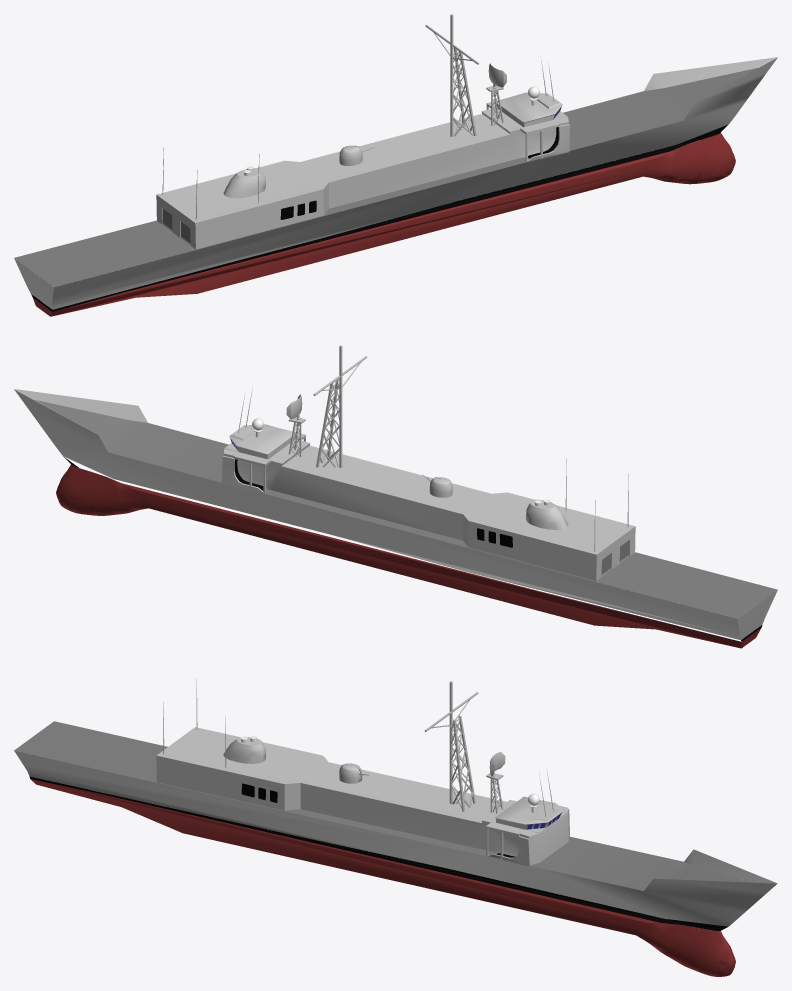
Rendered from vessel.glb.
The picture shows the model from 3 angles, top to bottom: view 1: azimuth 30°, elevation 25°; view 2: azimuth 150°, elevation 25°; view 3: azimuth 330°, elevation 25°; orthographic projection.
Visible parts, largest first — view 1: obj27, obj70, obj76, obj12; view 2: obj27, obj70, obj76, obj12; view 3: obj27, obj70, obj76, obj12.
Part boxes in pixels (left/top/right/bottom): obj27: left=14, top=14, right=777, bottom=309; obj70: left=32, top=132, right=735, bottom=316; obj76: left=14, top=67, right=758, bottom=287; obj12: left=31, top=125, right=727, bottom=311; obj27: left=14, top=345, right=777, bottom=640; obj70: left=56, top=464, right=761, bottom=648; obj76: left=34, top=399, right=777, bottom=618; obj12: left=63, top=456, right=762, bottom=641; obj27: left=14, top=679, right=777, bottom=926; obj70: left=30, top=779, right=735, bottom=976; obj76: left=14, top=721, right=751, bottom=890; obj12: left=29, top=776, right=727, bottom=930.
Size of the model in its own units: 1 by 0.2952 by 0.1215.
